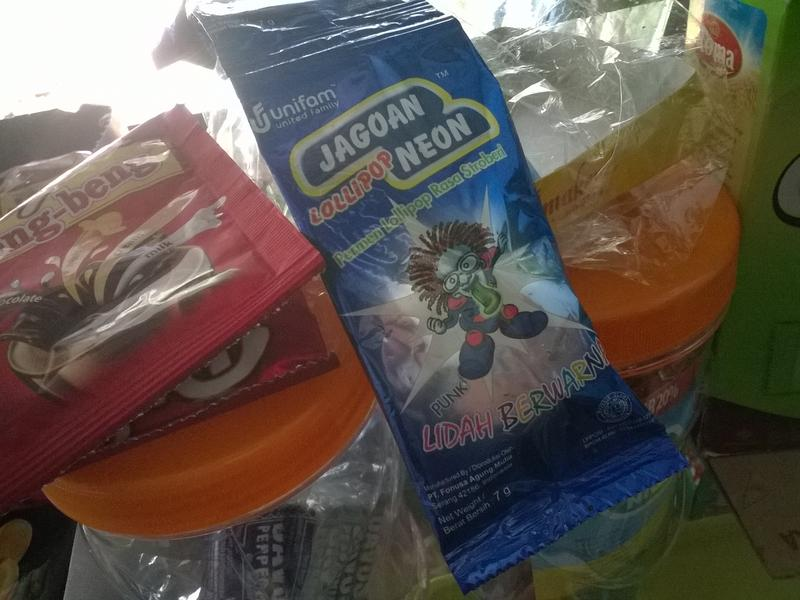jagoan neon: (226, 17, 690, 593)
